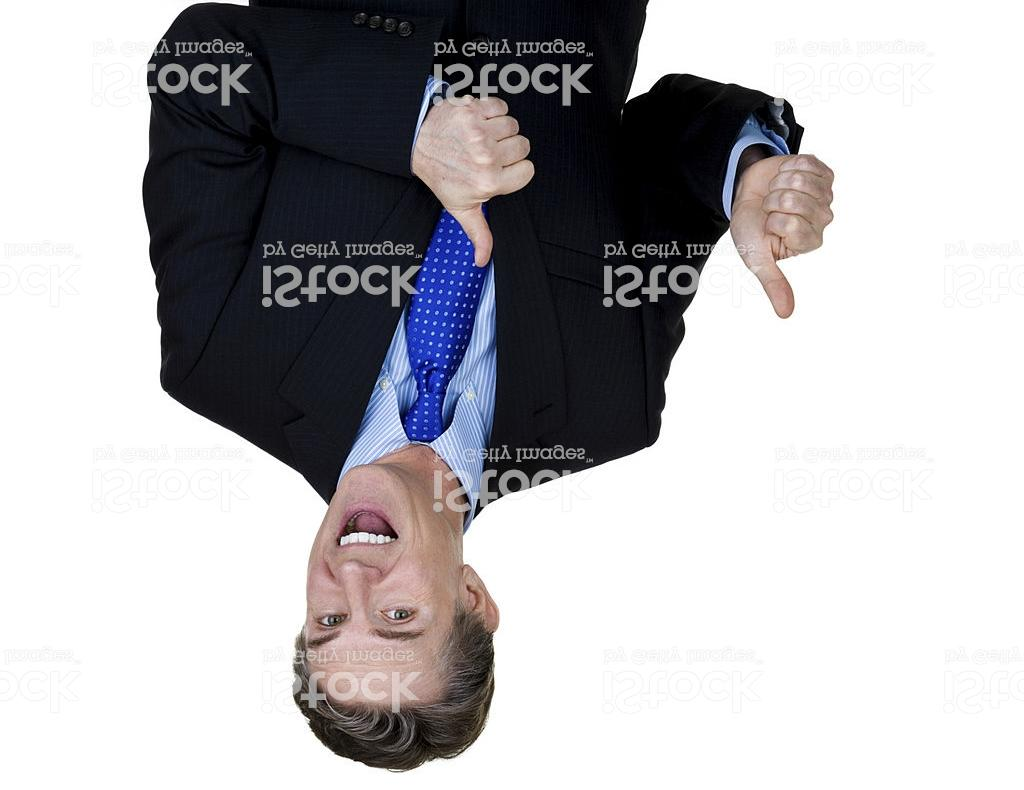thumbsdown: (452, 96, 538, 269), (752, 154, 836, 318)
